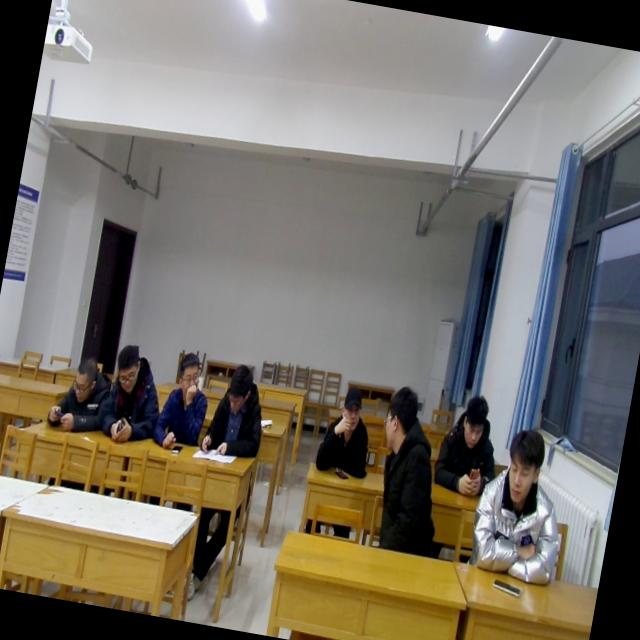bow: (43, 348, 119, 438)
down: (456, 392, 494, 454), (110, 338, 146, 401), (221, 360, 258, 416), (66, 352, 102, 408)
lookup: (494, 424, 549, 514), (334, 382, 369, 437)
sit: (464, 422, 578, 588), (362, 382, 460, 562), (302, 380, 381, 542), (431, 388, 511, 499), (96, 339, 170, 446), (197, 362, 273, 464), (149, 349, 216, 454)
